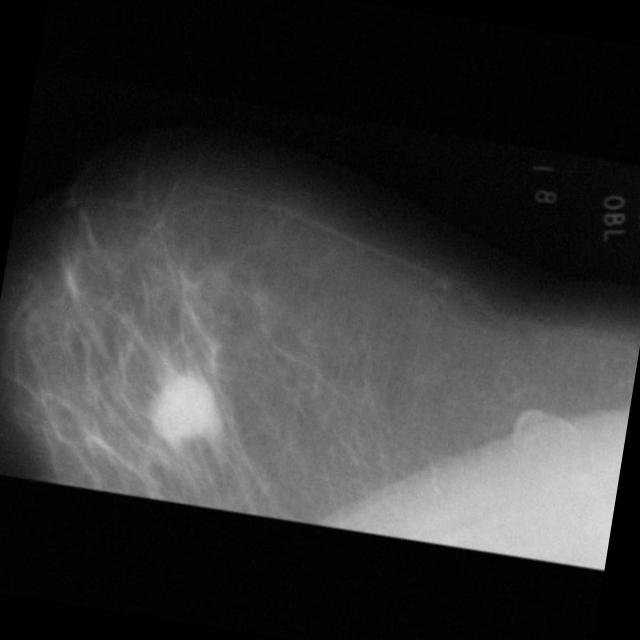CIRC: (140, 368, 220, 448)
